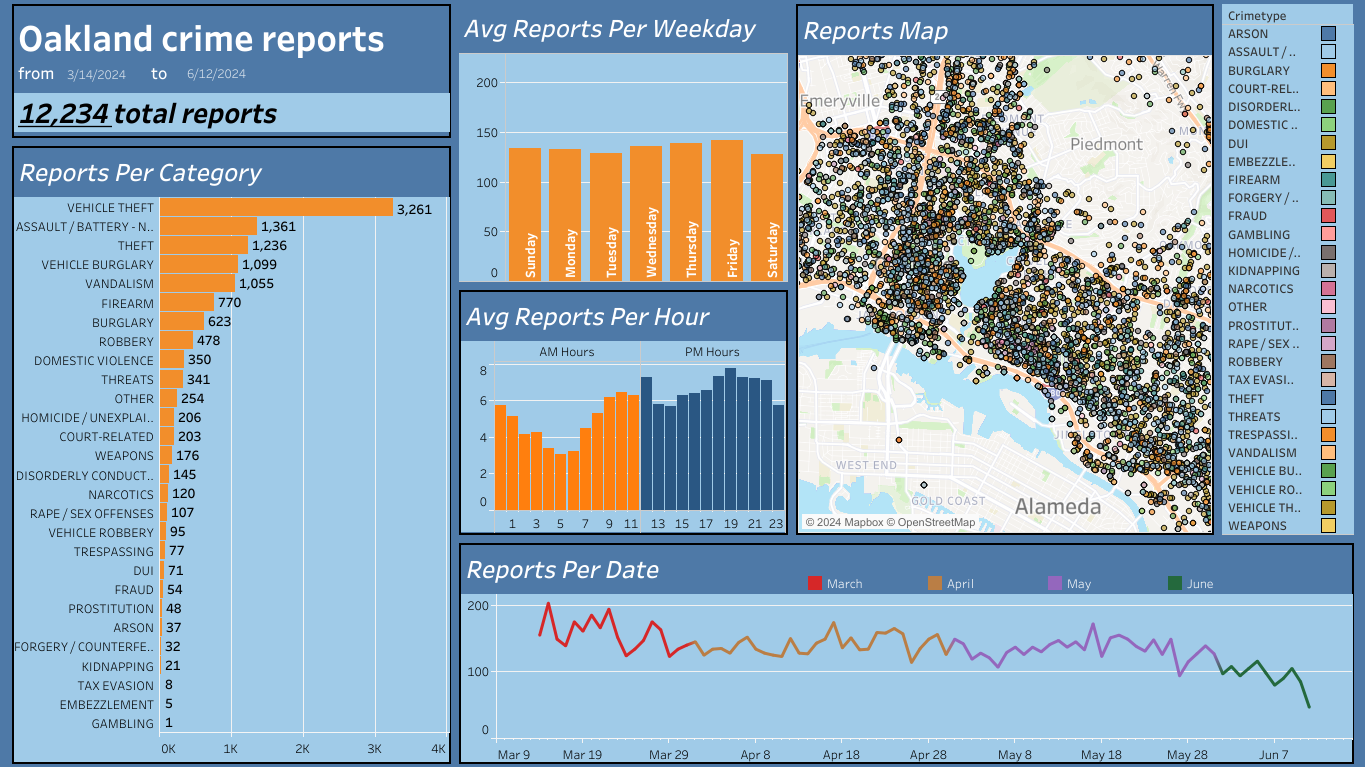

This screenshot's page, from the dashboard's own definition file:
{"tool":"tableau","page":{"name":"Dashboard 1","canvas":[1366,768],"ordinal":0},"visuals":[{"type":"worksheet","title":"Total Reports, Start/End Date","mark":"Automatic","box":[8,0,447,142]},{"type":"worksheet","title":"Avg Reports Per Weekday","mark":"Bar","rows":["Casenumbers over hour (copy)_13158987856822518","Calculation_15270050617716750"],"cols":["Calculation_1055562601189425"],"box":[455,0,337,286]},{"type":"worksheet","title":"Reports Map","mark":"Automatic","rows":["LATITUDE"],"cols":["LONGITUDE"],"box":[792,0,426,539]},{"type":"worksheet","title":"Legend/Filter","mark":"Automatic","rows":["CRIMETYPE"],"box":[1218,0,140,539]},{"type":"parameter","param":"[Parameters].[Parameter 2]","box":[185,45,82,47]},{"type":"parameter","param":"[Parameters].[Parameter 1]","box":[65,46,83,46]},{"type":"worksheet","title":"Reports Per Category","mark":"Automatic","rows":["CRIMETYPE"],"cols":["CASENUMBER"],"box":[8,142,447,625.8]},{"type":"worksheet","title":"Avg Reports Per Hour","mark":"Bar","rows":["Calculation_13158987841868019"],"cols":["Calculation_1055562598899759","DATETIME"],"box":[455,286,337,253]},{"type":"worksheet","title":"Reports Per Date","mark":"Automatic","rows":["CASENUMBER"],"cols":["DATETIME"],"box":[455,539,903,229]}]}

Visuals, with their boxes in screenshot pixels (x1, y1, x2, y2), scaled from the page's 1366x768 canvas onto the 1365x767 screenshot:
"Total Reports, Start/End Date" worksheet: (8,0,455,142)
"Avg Reports Per Weekday" worksheet (Bar marks): (455,0,791,286)
"Reports Map" worksheet: (791,0,1217,538)
"Legend/Filter" worksheet: (1217,0,1357,538)
parameter: (185,45,267,92)
parameter: (65,46,148,92)
"Reports Per Category" worksheet: (8,142,455,766)
"Avg Reports Per Hour" worksheet (Bar marks): (455,286,791,538)
"Reports Per Date" worksheet: (455,538,1357,766)
